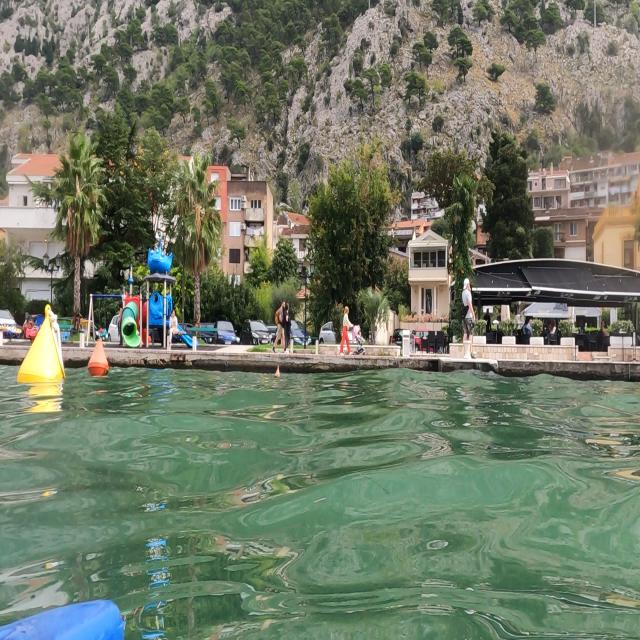buoy: (17, 300, 68, 399), (87, 333, 111, 387)
